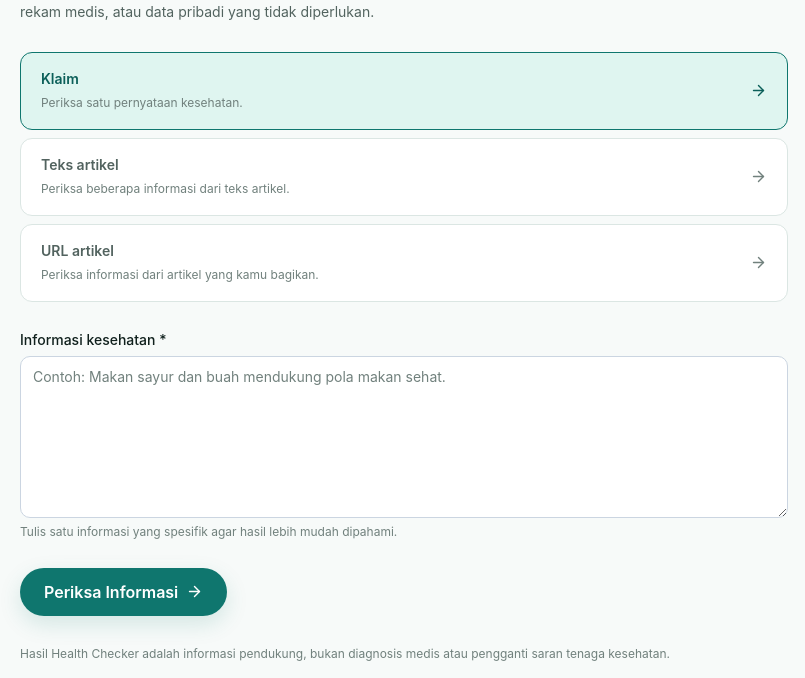
Test: SEHATIN final frontend journeys › shows only compact button loading while evidence is being checked
(page scrolled)
Type "Antibiotik bisa menyembuhkan flu karena virus." into the text box labelled "Informasi kesehatan" at (404, 437), box [20, 356, 788, 518]
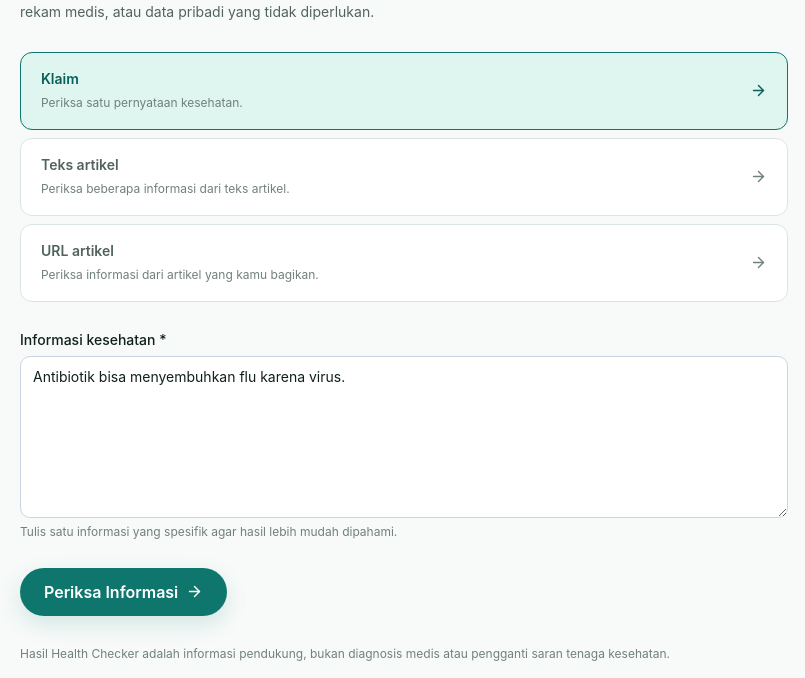
Click the button "Periksa Informasi" at (124, 592), box [20, 568, 227, 616]
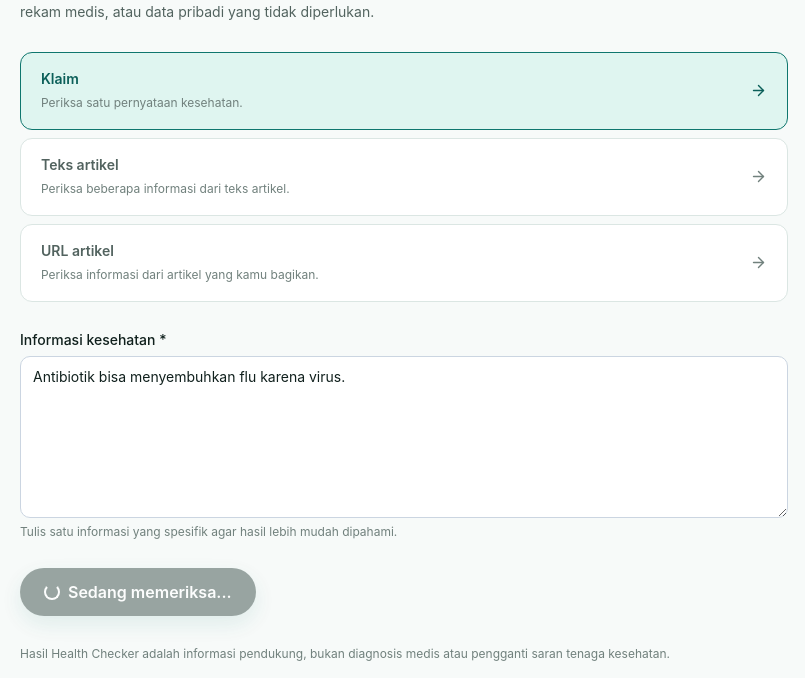
Expected: the button "Sedang memeriksa..." is disabled, [20, 568, 256, 616]
